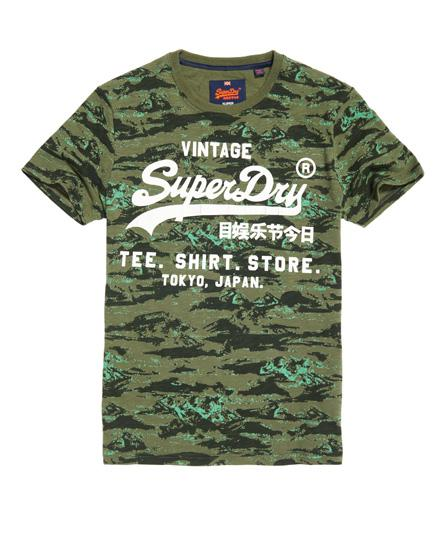teeshirt: (21, 40, 426, 482)
